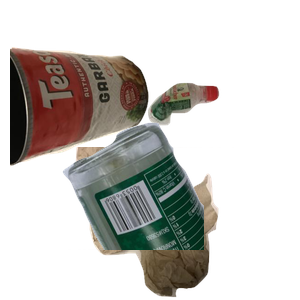glass: (60, 120, 300, 300)
metal: (10, 44, 151, 203)
plastic: (146, 80, 300, 198)
trash: (73, 147, 300, 300)
